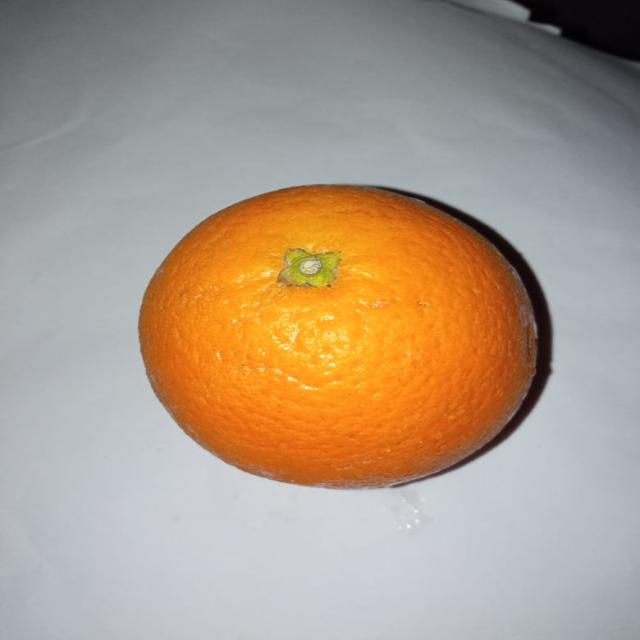fresh_orange: (137, 186, 534, 487)
